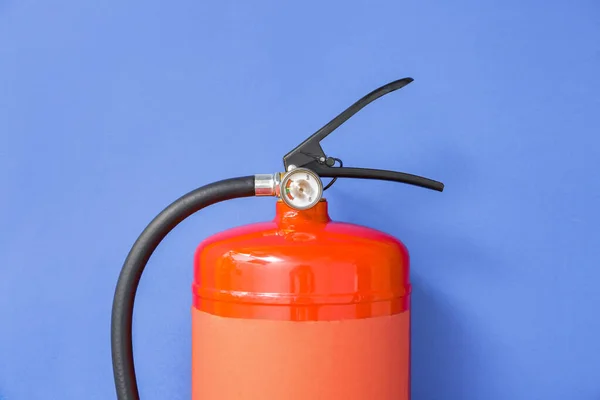fire_extinguisher: (110, 76, 445, 400)
